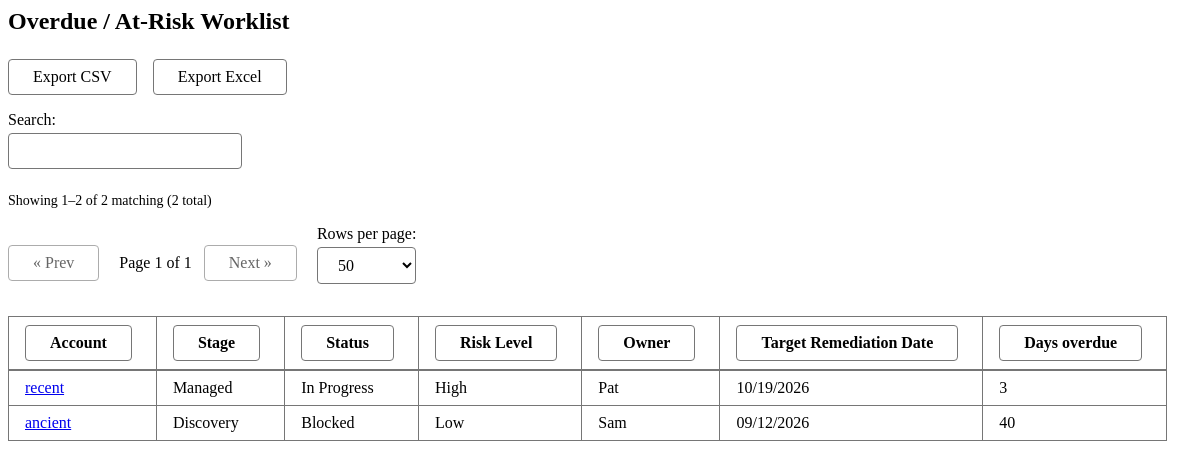
Scenario: report tables › Overdue/At-Risk: shows days overdue, sorts by it, and searches
Expected: the button "Account" is shown, [25, 325, 132, 361]
Click the button "Days overdue" at (1071, 343), box [999, 325, 1142, 361]
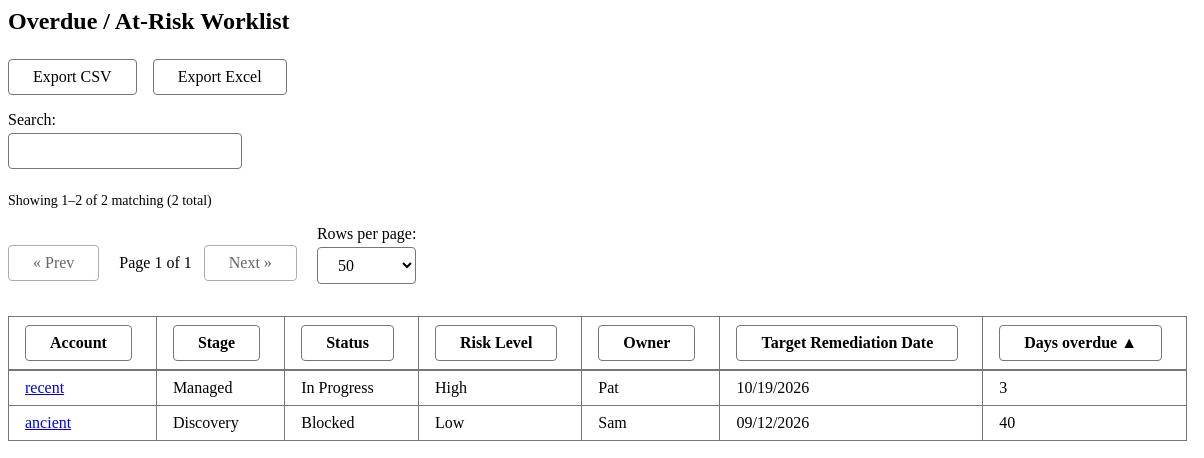
Click the button "Days overdue ▲" at (1081, 343), box [999, 325, 1162, 361]
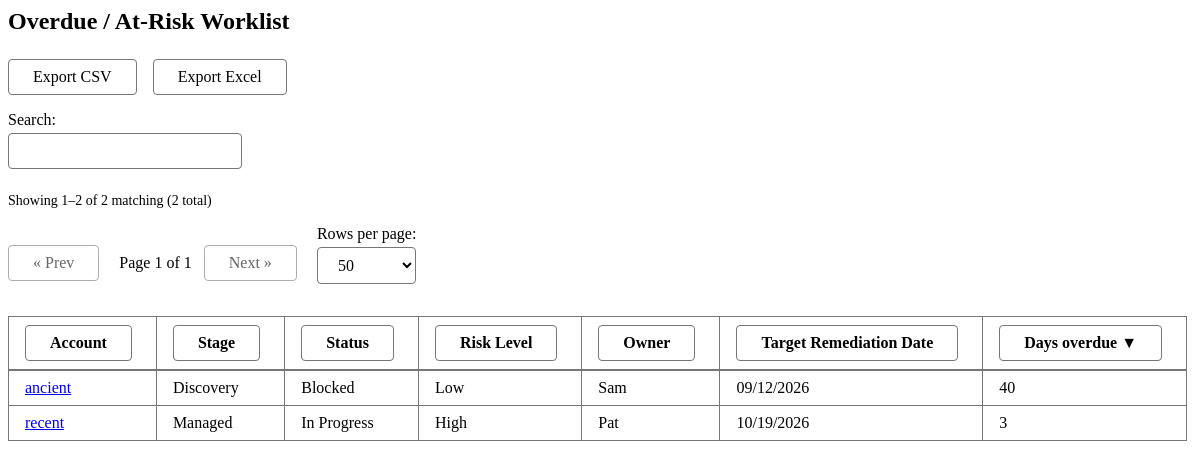
Type "sam" into the search field labelled "Search:" at (125, 151), box [8, 133, 242, 169]
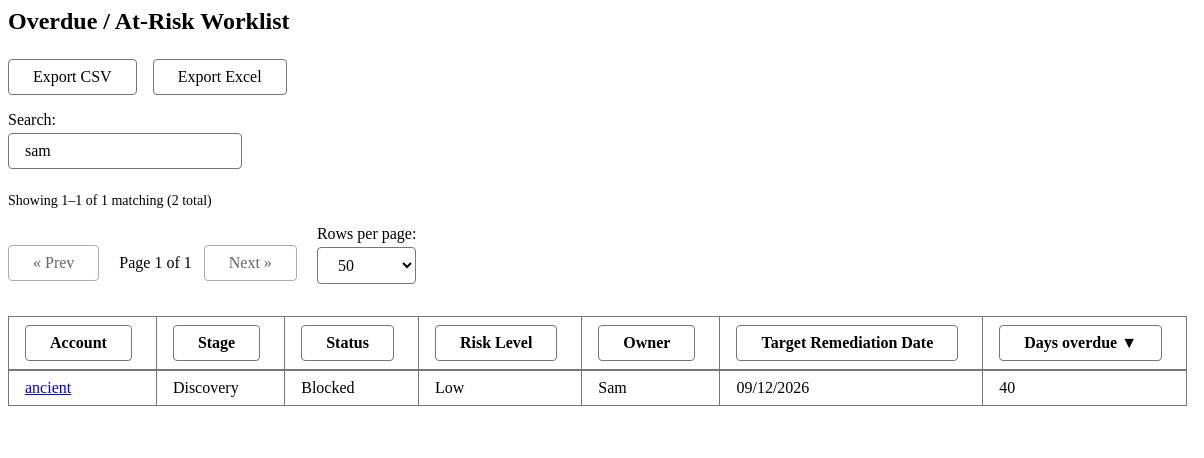
Replace the text in the search field labelled "Search:" with "nobody" at (125, 151), box [8, 133, 242, 169]
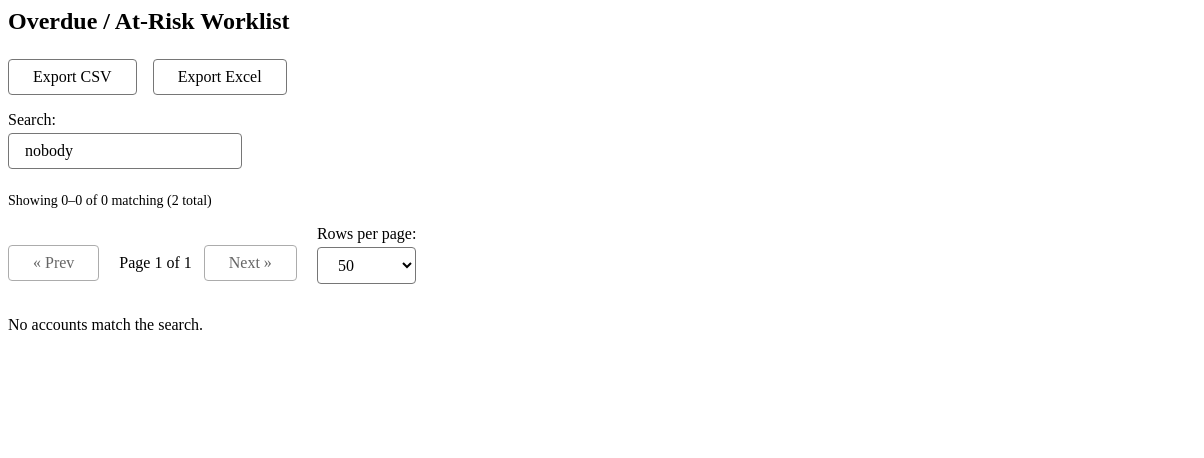
Now the text "No accounts match the search." is shown, box [8, 316, 203, 333]
